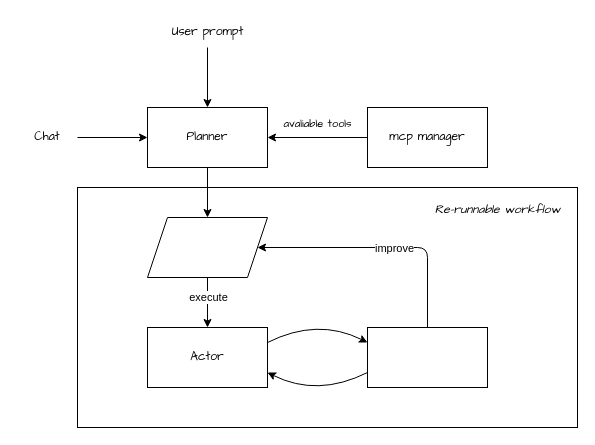
The diagram is 595 pixels wide and 445 high, and some of its shapes have lost their labels. Each missing label, with the box of its shape:
Validator: (366, 326, 488, 388)
Workflow Plan: (146, 216, 268, 278)
